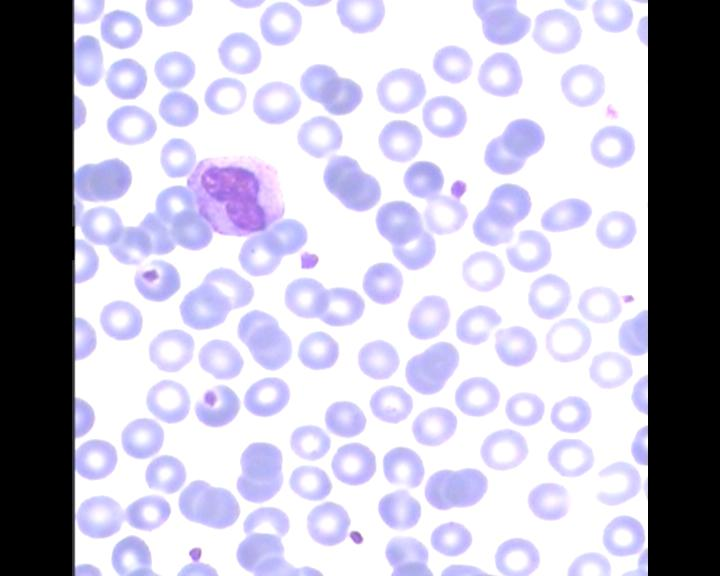mono: (183, 149, 292, 240)
